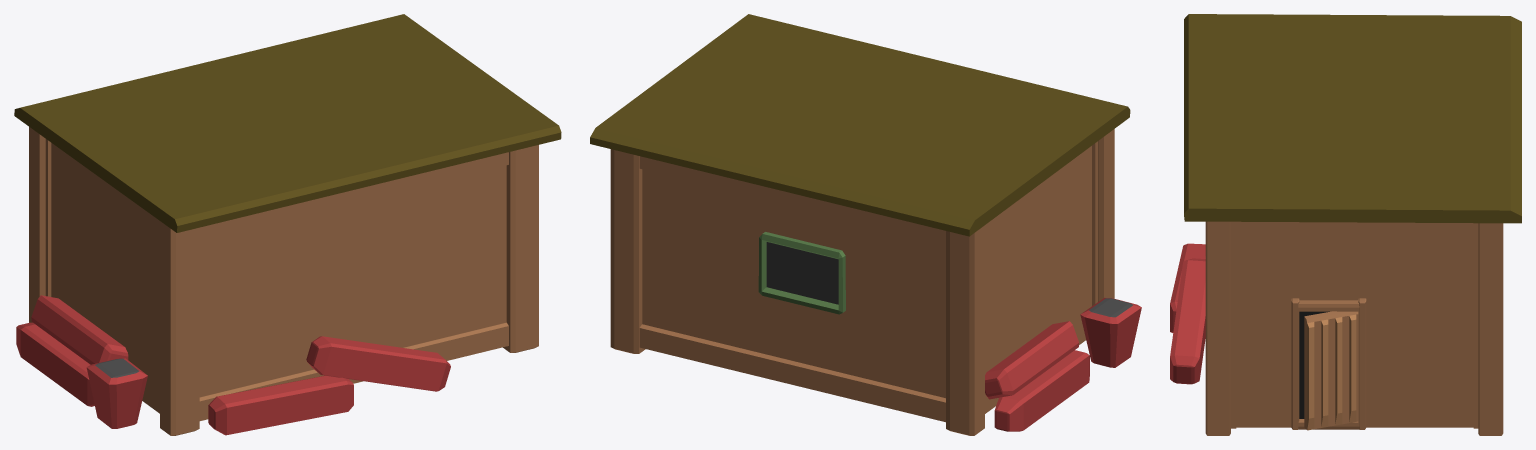
File: House2.dae
3 views of the same model, side by side, from view 1: azimuth 30°, elevation 25°; view 2: azimuth 150°, elevation 25°; view 3: azimuth 270°, elevation 25° (orthographic). The views are drawn at different scales.
Visible parts, largest first — view 1: Cube.005, Cube, Cube.002, Cube.045, Cube.047, Cube.011, Cube.013, Cube.042, Cube.009, Cube.010, Cube.007, Cube.041 (+2 smaller); view 2: Cube.005, Cube.001, Cube.002, Cube.043, Cube.039, Cube.046, Cube.022, Cube.040, Cube.007, Cube.009, Cube.010, Cube.045 (+1 smaller); view 3: Cube.005, Cube.003, Cube.008, Cube.047, Cube.046, Cube.013, Cube.004, Cube.012, Cube.006, Cube.011.
Part boxes in pixels (x1,y1,x2,y2): Cube.005: [14, 14, 561, 232]; Cube: [199, 165, 506, 397]; Cube.002: [51, 143, 159, 413]; Cube.045: [160, 221, 199, 435]; Cube.047: [503, 145, 538, 352]; Cube.011: [208, 375, 353, 435]; Cube.013: [306, 336, 450, 391]; Cube.042: [199, 152, 508, 239]; Cube.009: [31, 295, 128, 364]; Cube.010: [86, 358, 147, 428]; Cube.007: [16, 322, 94, 406]; Cube.041: [199, 322, 508, 420]; Cube.005: [590, 14, 1130, 236]; Cube.001: [642, 169, 945, 398]; Cube.002: [985, 146, 1091, 413]; Cube.043: [946, 225, 984, 435]; Cube.039: [639, 324, 945, 422]; Cube.046: [610, 149, 645, 353]; Cube.022: [758, 232, 845, 314]; Cube.040: [639, 156, 945, 243]; Cube.007: [994, 350, 1089, 431]; Cube.009: [985, 321, 1078, 399]; Cube.010: [1080, 297, 1141, 367]; Cube.045: [1098, 129, 1114, 301]; Cube.005: [1184, 14, 1521, 223]; Cube.003: [1231, 221, 1478, 427]; Cube.008: [1304, 311, 1358, 430]; Cube.047: [1205, 221, 1230, 435]; Cube.046: [1478, 223, 1503, 435]; Cube.013: [1170, 258, 1205, 384]; Cube.004: [1298, 300, 1359, 429]; Cube.012: [1291, 298, 1299, 429]; Cube.006: [1358, 298, 1366, 429]; Cube.011: [1170, 243, 1205, 332].
Size of the model in its own units: 8.97 by 6.07 by 4.54.
